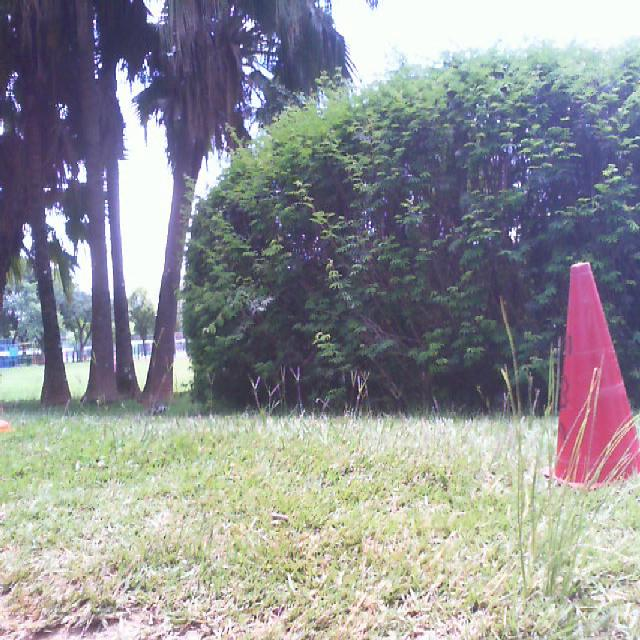cone: (543, 263, 640, 493)
